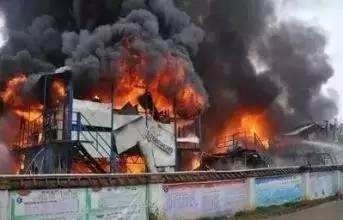fire: (95, 45, 208, 118), (0, 69, 68, 170), (214, 106, 272, 152), (121, 150, 147, 173)
